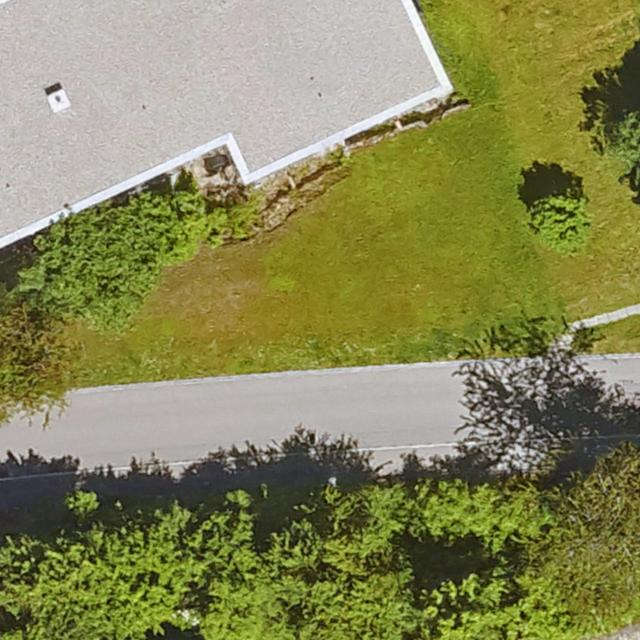tree: (189, 493, 432, 640), (0, 493, 193, 640), (422, 456, 562, 640), (555, 440, 640, 640), (29, 216, 154, 331), (0, 305, 80, 409), (139, 182, 211, 267), (532, 195, 591, 259)
